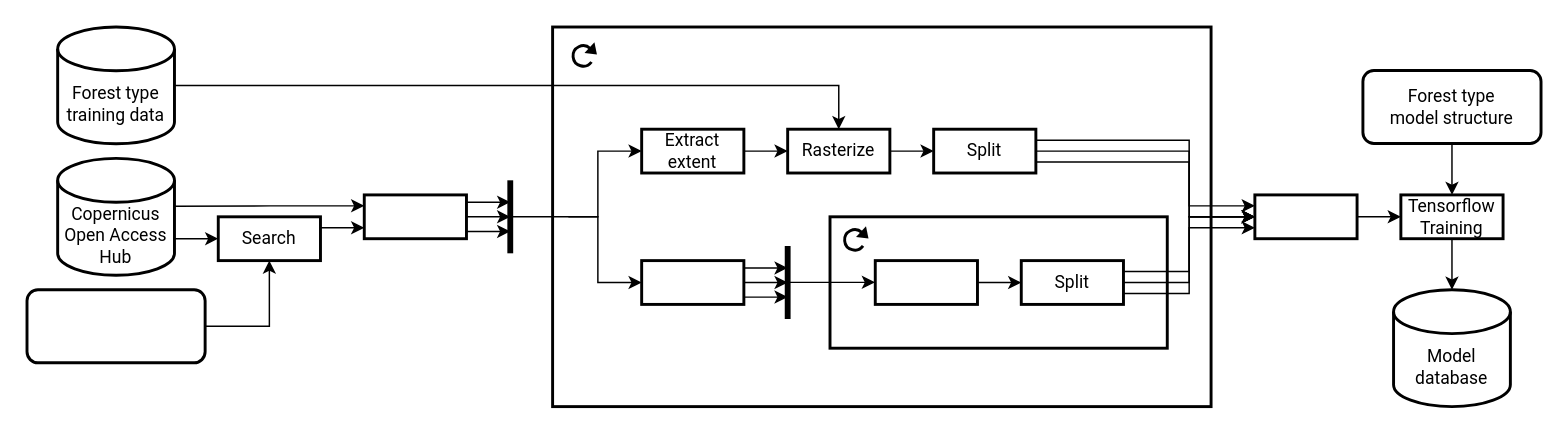
Some shapes in this 1567 by 432 pixel diagram are drawn without their labels. Each missing label, with the centre of its shape:
"- Cloud coverage - Bounding box" goes at [115,326].
"Combine" goes at [1305,216].
"Convert" goes at [925,281].
"Download" goes at [414,216].
"Filter" goes at [692,281].
